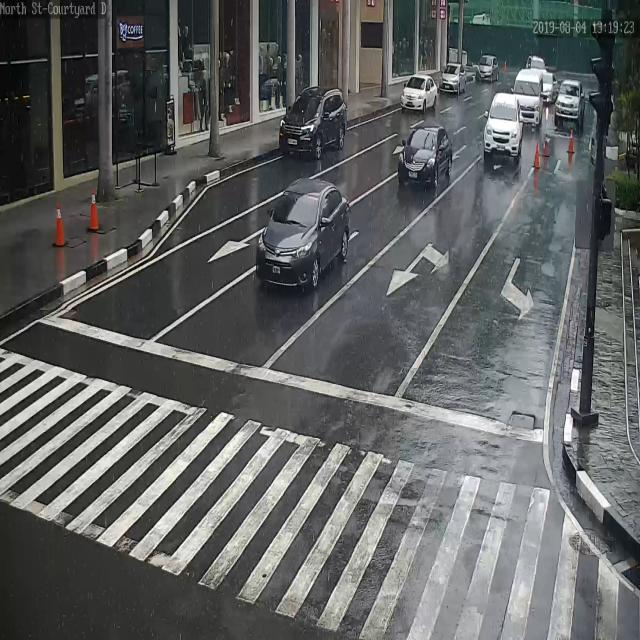car: (255, 178, 350, 294), (279, 85, 349, 158), (397, 123, 453, 191), (484, 93, 522, 162), (555, 78, 584, 127), (400, 75, 438, 111), (441, 63, 466, 95), (476, 56, 499, 82), (543, 73, 558, 102), (526, 55, 547, 72)
van: (513, 70, 543, 127)
